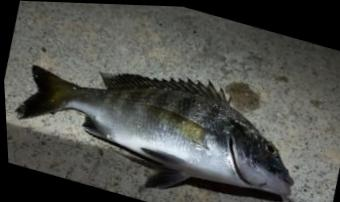fish: (13, 65, 293, 196)
